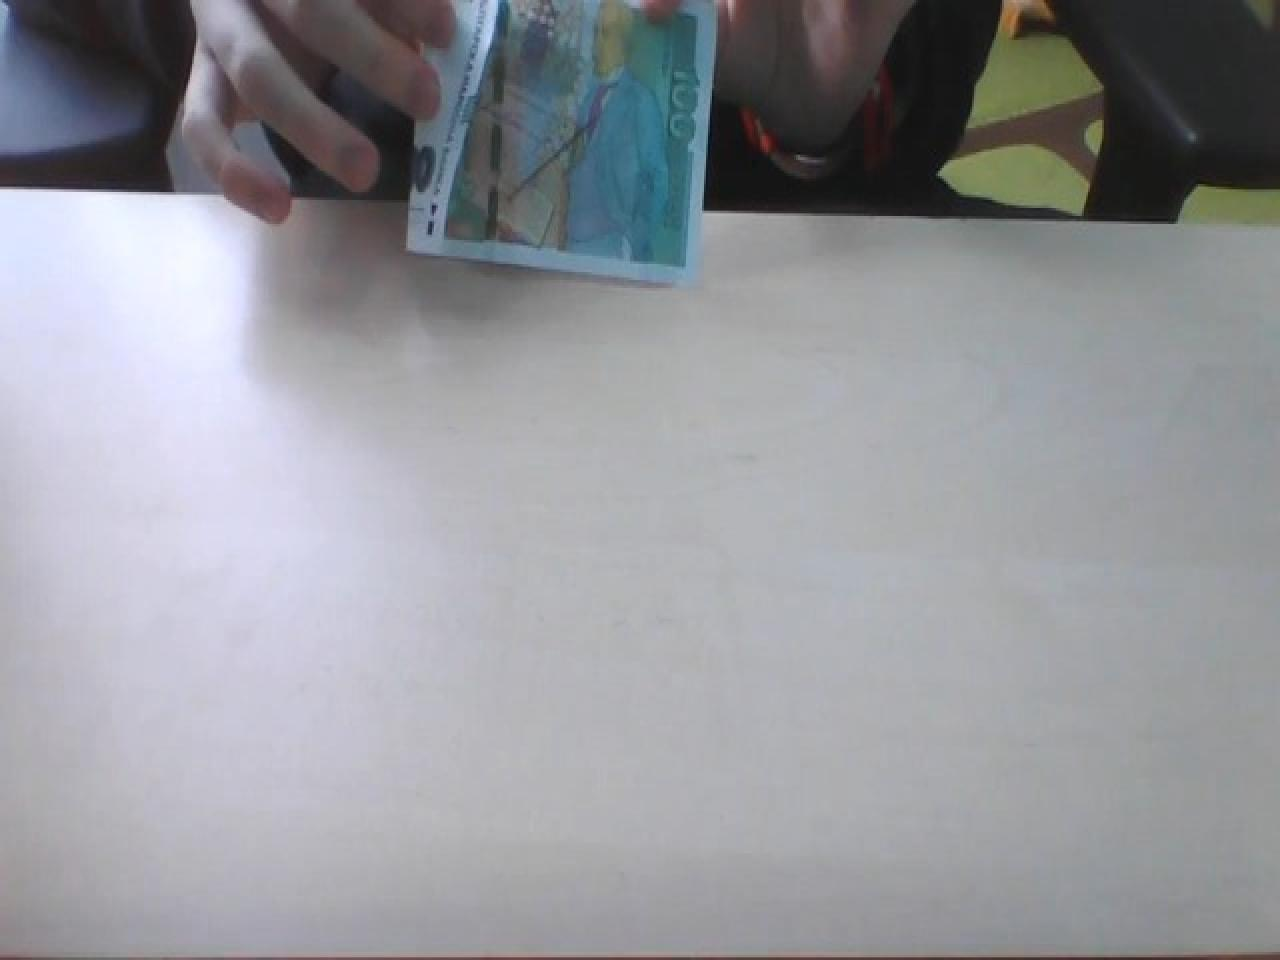100leva: (402, 0, 718, 285)
